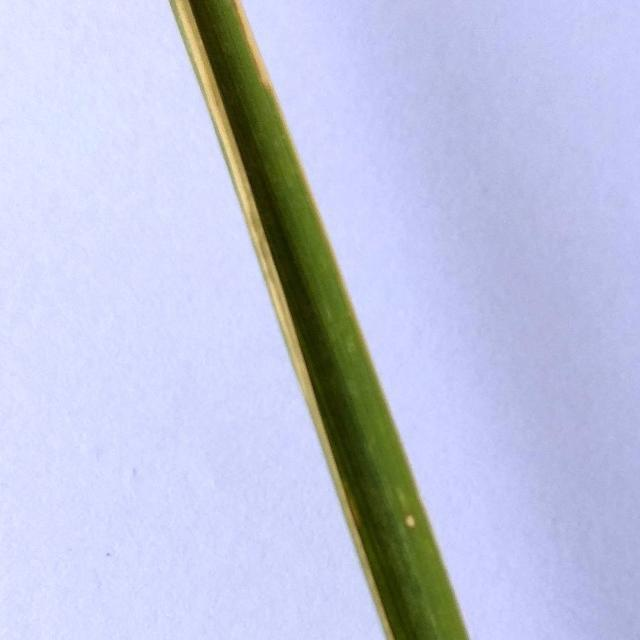Blast: (401, 509, 423, 537)
